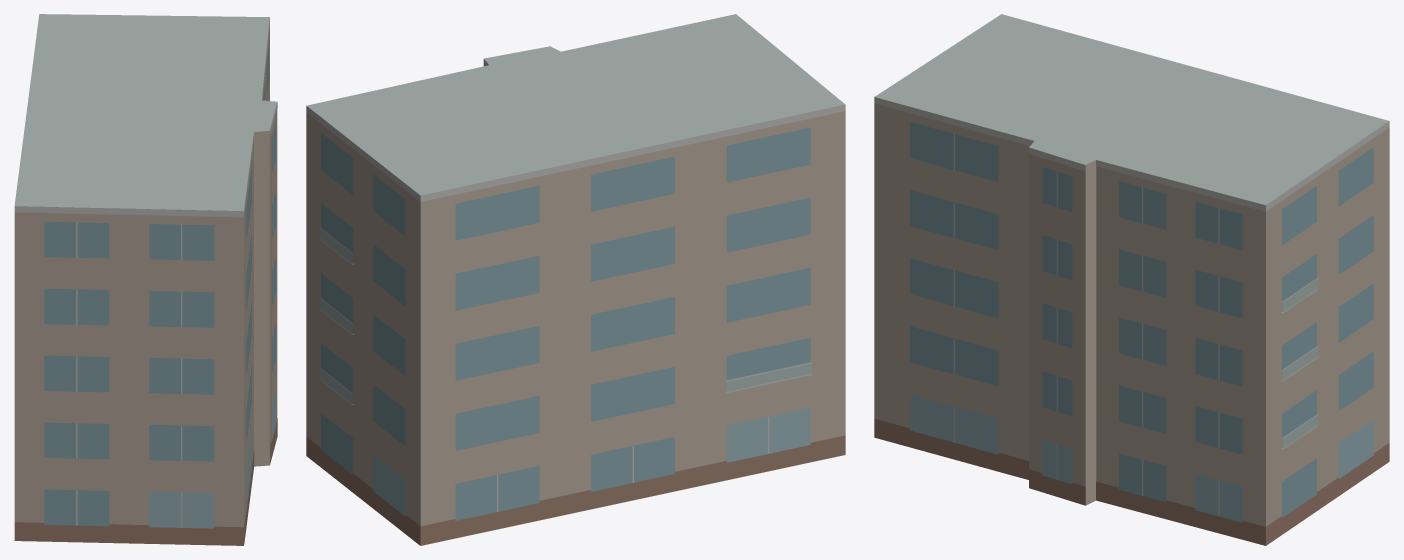
File: survey-upis-32628052.glb
3 views of the same model, side by side, from view 1: azimuth 30°, elevation 25°; view 2: azimuth 150°, elevation 25°; view 3: azimuth 270°, elevation 25° (orthographic). The views are drawn at different scales.
Visible parts, largest first — view 1: survey-upis-32628052.tmp; view 2: survey-upis-32628052.tmp; view 3: survey-upis-32628052.tmp.
Part boxes in pixels (<box>): survey-upis-32628052.tmp: <box>14,14,277,545</box>; survey-upis-32628052.tmp: <box>306,14,845,545</box>; survey-upis-32628052.tmp: <box>874,14,1389,545</box>.
Size of the model in its own units: 15.79 by 13.1 by 17.97.
